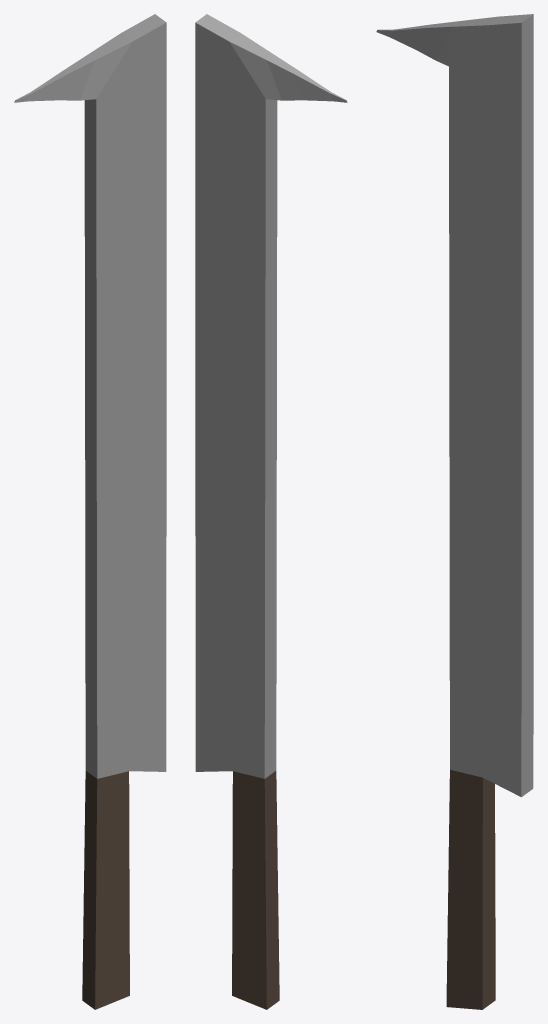
File: SugarcaneMachete.fbx
3 renders of one model, left to right at view 1: azimuth 30°, elevation 25°; view 2: azimuth 150°, elevation 25°; view 3: azimuth 330°, elevation 25°, orthographic. The views are drawn at different scales.
Parts seen in each view (by area): view 1: Sugarcane Machete; view 2: Sugarcane Machete; view 3: Sugarcane Machete.
Part boxes in pixels (bbox=[...]): Sugarcane Machete: bbox=[14, 14, 166, 1009]; Sugarcane Machete: bbox=[195, 14, 347, 1009]; Sugarcane Machete: bbox=[376, 14, 533, 1009].
Bounding box in the file's own units: 130 × 821 × 19.75.
